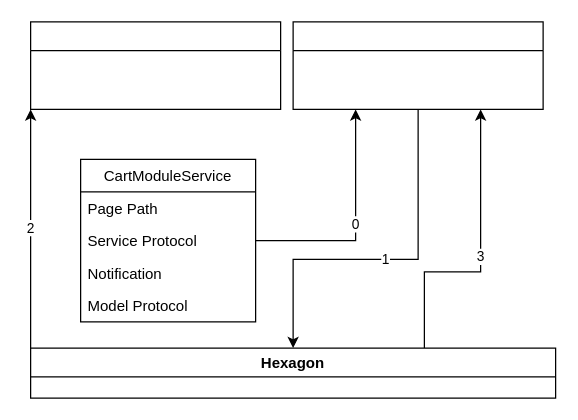
Image size: 578x420. Some labels were removed from this diagram. Each missing label, with the box of its shape:
CartModule: (29, 21, 281, 109)
GoodsModule: (292, 21, 543, 109)
